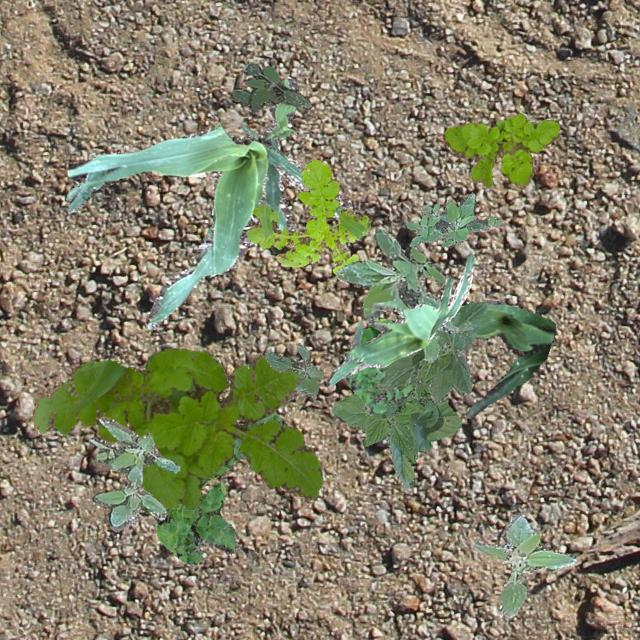crop: (65, 75, 352, 328), (326, 252, 474, 388), (434, 300, 554, 418), (330, 382, 460, 488), (378, 300, 486, 402)
weed: (31, 348, 322, 508), (137, 411, 286, 564), (335, 228, 471, 362), (244, 158, 370, 272), (472, 512, 576, 616), (88, 416, 178, 530), (442, 112, 558, 188), (344, 318, 412, 412), (404, 192, 504, 246), (228, 62, 310, 112), (264, 342, 322, 396), (368, 376, 437, 418)
